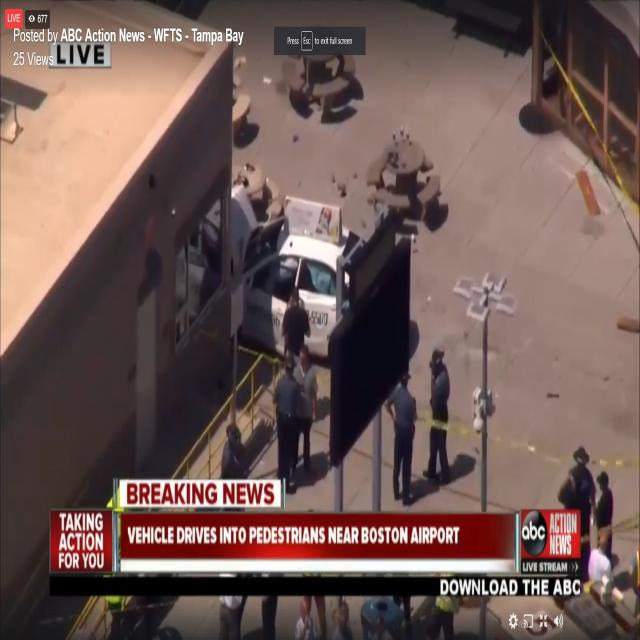body: (215, 404, 483, 506), (206, 556, 471, 640), (557, 444, 597, 581), (384, 362, 419, 509), (271, 349, 303, 495), (426, 348, 452, 485), (292, 342, 318, 468), (280, 285, 312, 375), (593, 470, 614, 572), (587, 525, 613, 584)
